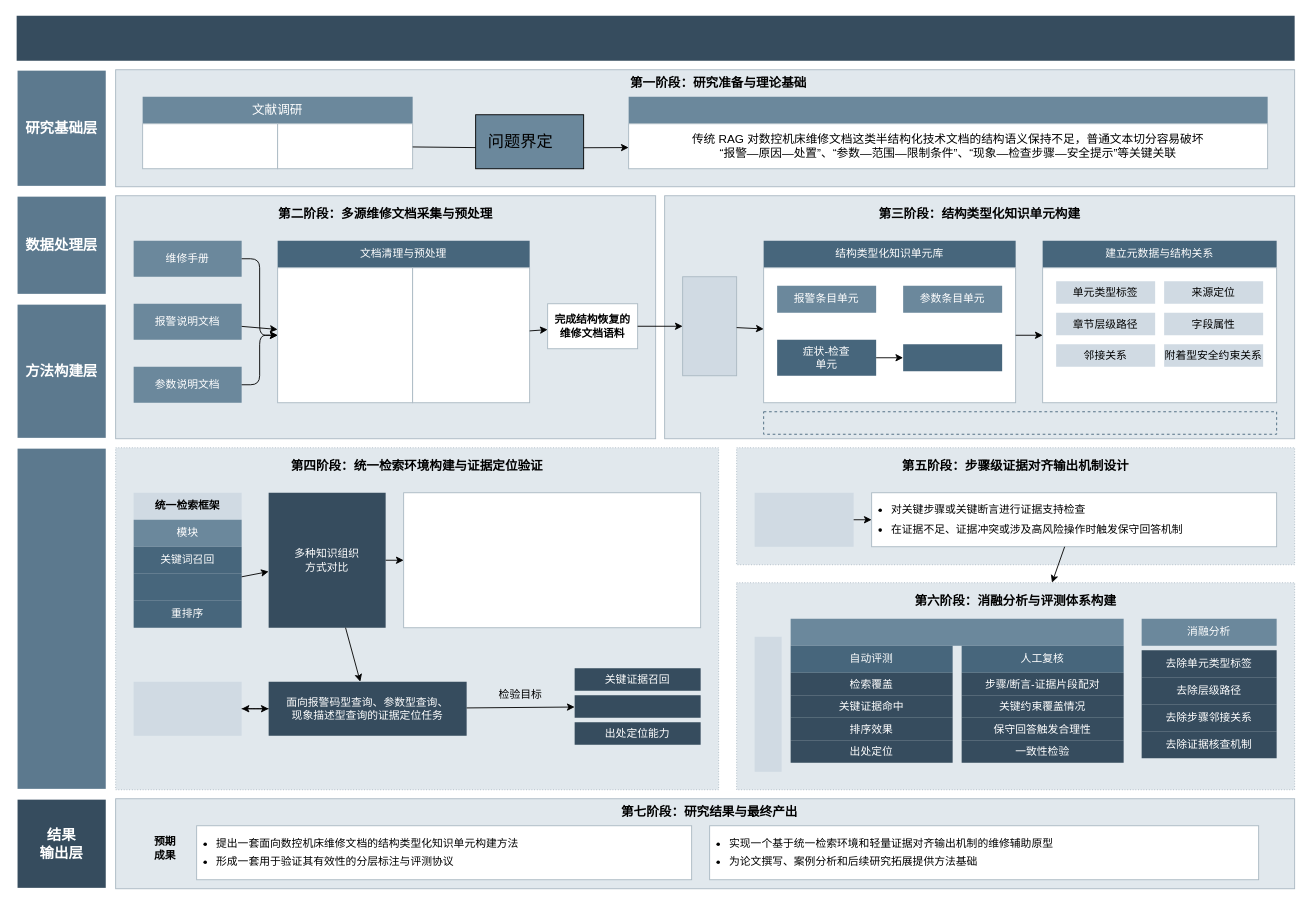
The diagram is 1310 pixels wide and 905 high, and some of its shapes have lost their labels. Each missing label, with the centre of its shape:
RAG 结构感知检索: point 210,146
“证据对齐”、“风险约束”、“可靠输出”特征的轻量生成环节: point 187,708
原始 文档: point 709,326
固定长度切片 层级切分文本块 章节路径与元数据增强块 文档元素/版面感知切分 表格记录级切分 步骤项/步骤块切分 结构类型化知识单元 [实验组]: point 552,560
基于检索机制: point 803,519
实验 验证层: point 61,618
工业维修知识组织 可信生成: point 345,146
排序能力: point 637,706
文档格式统一 标题层级恢复 字段识别与合并 表格记录提取 ... 警告/注意/禁止操作等安全信息提取: point 345,335
方案收敛: point 947,109
步骤链单元: point 952,357
步骤项识别 适用条件识别 来源页码定位: point 471,335
突出“从原始文档到知识单元重构”，实现“结构化表示”与“安全约束绑定”: point 1020,422
评测验证: point 956,631
评量目标: point 767,703
语义召回: point 187,586
面向数控机床维修辅助的结构类型化知识单元构建与 RAG 验证研究 技术路线: point 655,37
